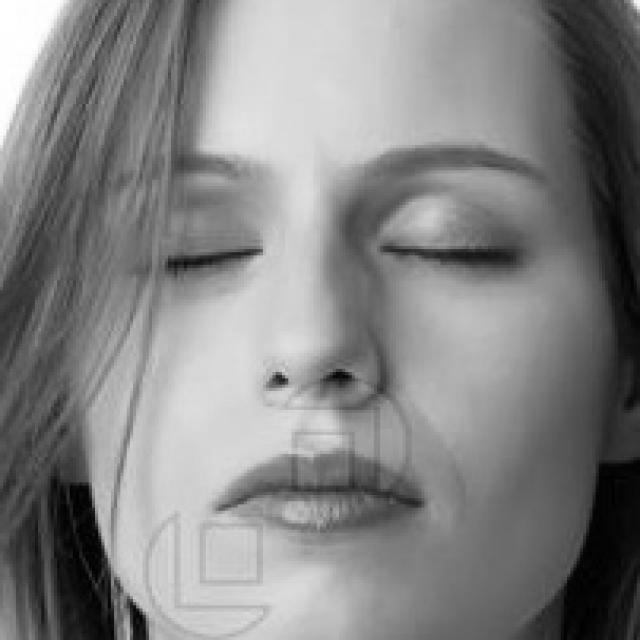real: (75, 18, 538, 632), (137, 192, 542, 293)
